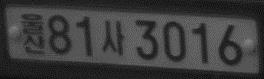0: (162, 20, 187, 62)
1: (190, 21, 210, 65), (75, 15, 94, 58)
3: (133, 18, 159, 59)
6: (217, 22, 243, 67)
8: (47, 13, 72, 56)
사: (101, 19, 125, 56)
울산_V: (20, 12, 47, 55)
